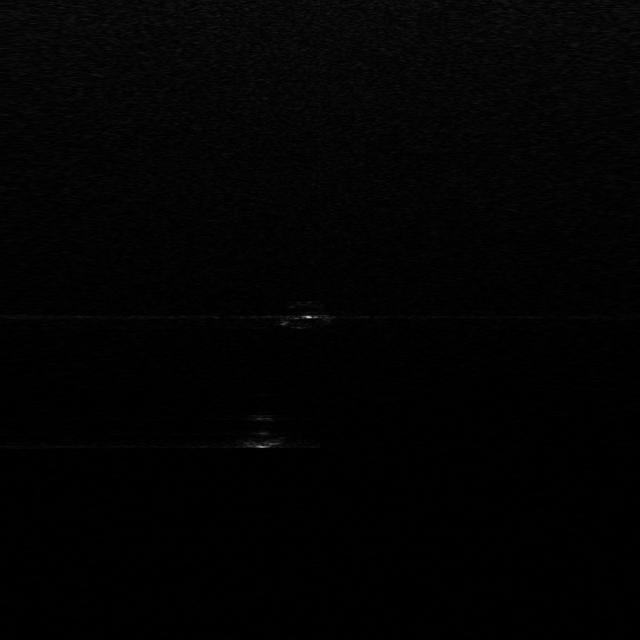ball: (229, 413, 292, 449)
tyre: (278, 303, 333, 331)
